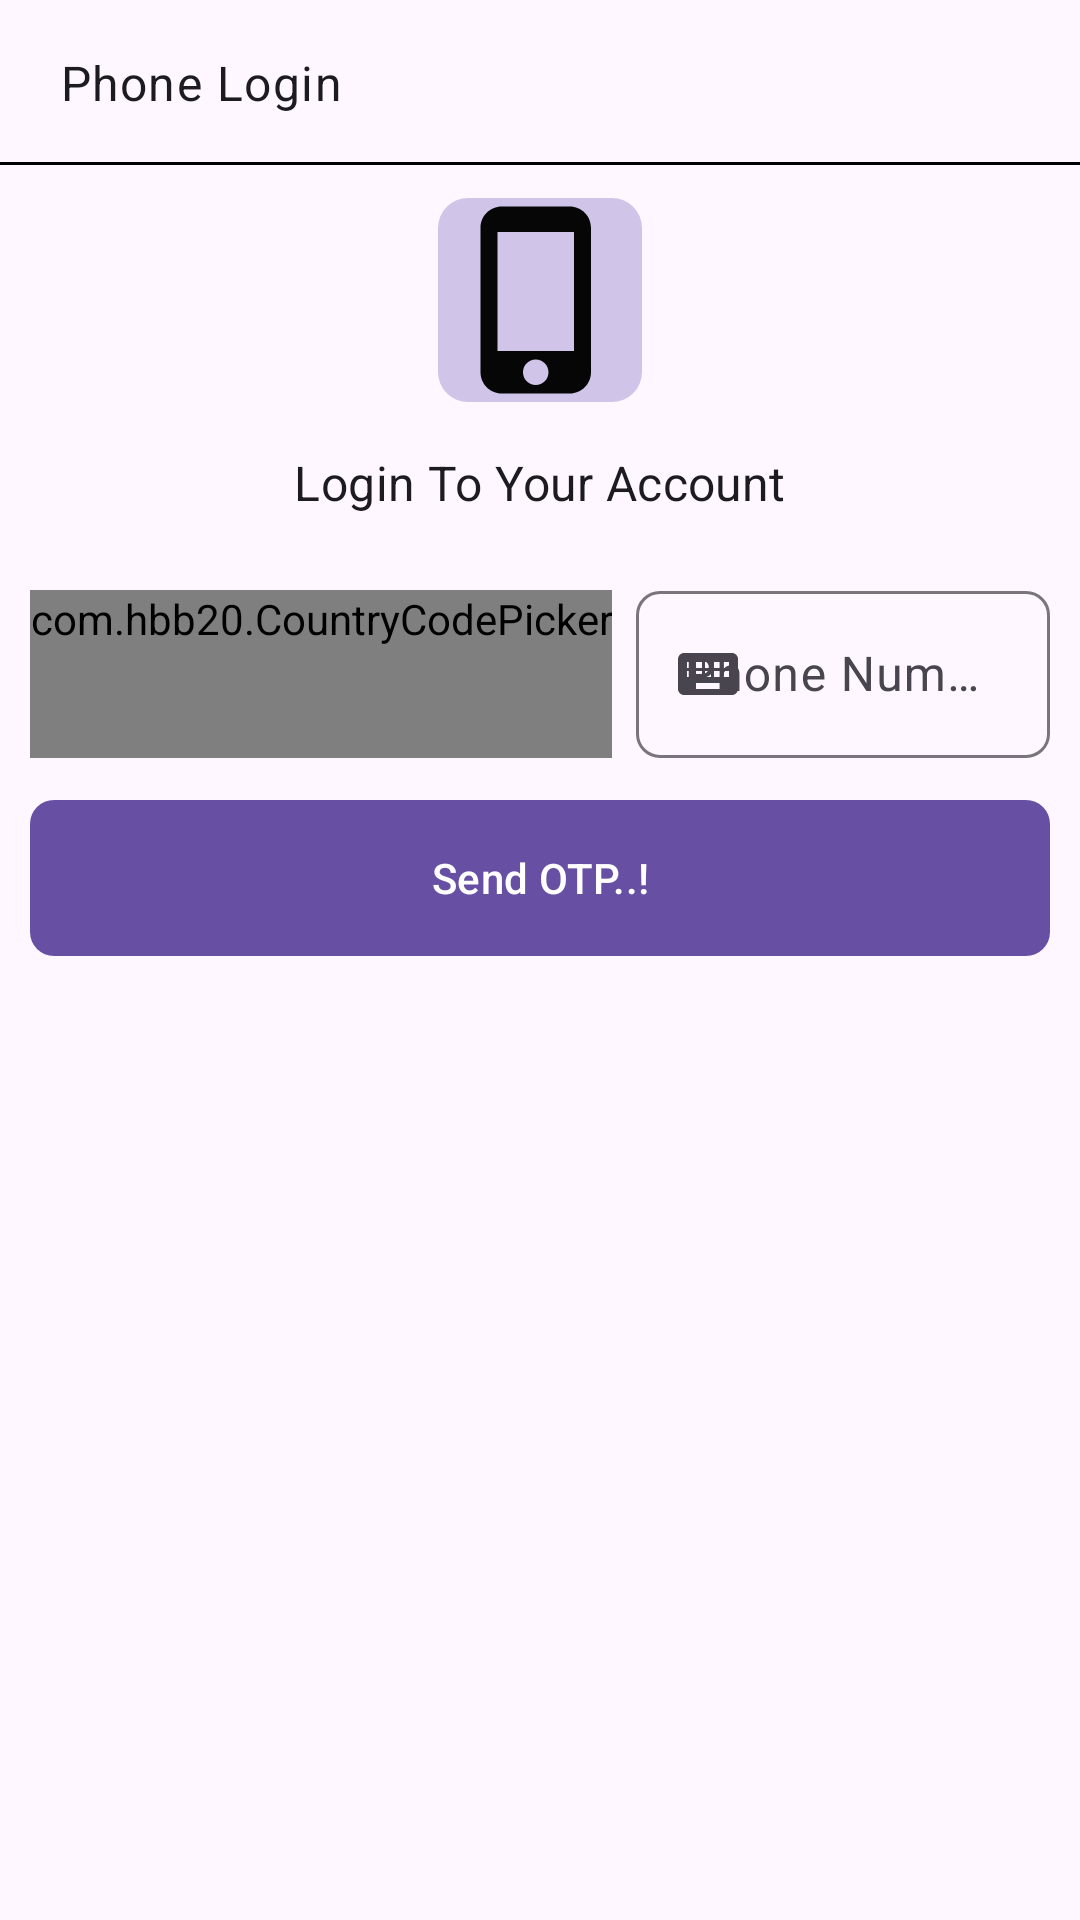

Named icons in this screenshot (1080 × 1920) and their centers, (x,y):
phone iphone: (540,300)
